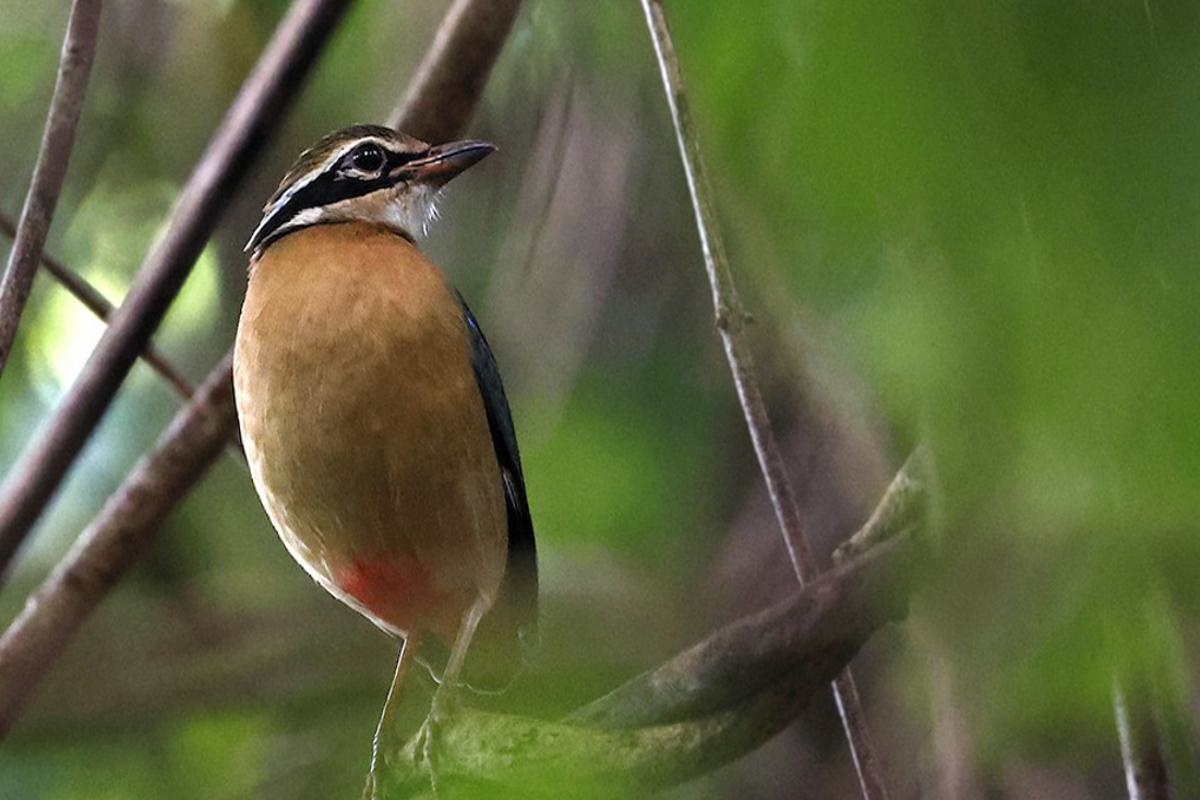pitta: (216, 107, 550, 751)
